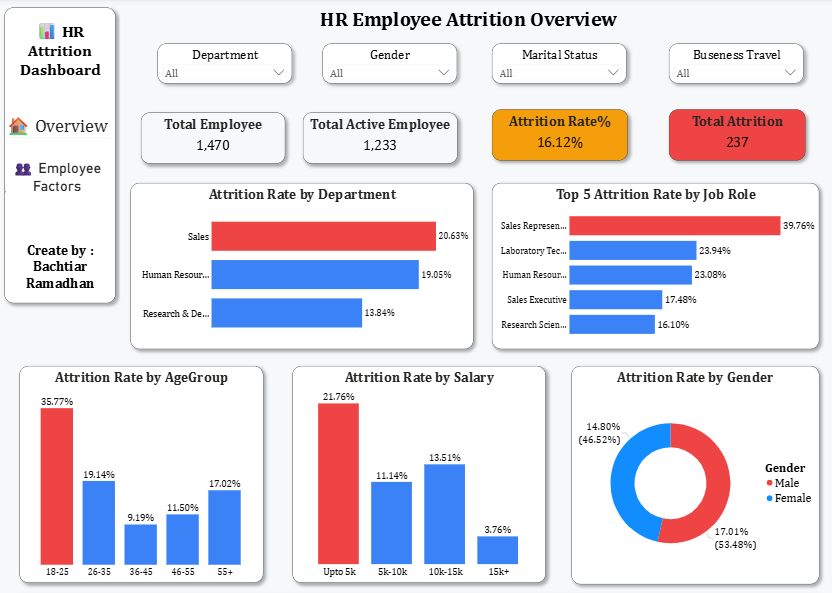

This screenshot's page, from the dashboard's own definition file:
{"tool":"powerbi","page":{"name":"Overview","canvas":[2800,2228],"ordinal":0},"visuals":[{"type":"textbox","title":"HR Employee Attrition Overview","box":[906.8,36.4,1335.9,76.9],"z":0},{"type":"textbox","box":[25.1,35.1,370.8,987.1],"z":1000},{"type":"textbox","title":"📊 HR Attrition Dashboard","box":[30.1,75.2,360.8,240.5],"z":2000},{"type":"slicer","title":"Department","fields":{"Values":["HR_Analytics_clean.Department"]},"box":[534.3,155,449.3,133.6],"z":3000},{"type":"slicer","title":"Gender","fields":{"Values":["HR_Analytics_clean.Gender"]},"box":[1084.9,155,449.3,133.6],"z":4000},{"type":"slicer","title":"Marital Status","fields":{"Values":["HR_Analytics_clean.MaritalStatus"]},"box":[1655.7,155,449.3,133.6],"z":5000},{"type":"slicer","title":"Buseness Travel","fields":{"Values":["HR_Analytics_clean.BusinessTravel"]},"box":[2242.6,155,449.3,133.6],"z":6000},{"type":"cardVisual","title":"Total Active Employee","fields":{"Data":["HR_Analytics_clean.Total Active Employee Text"]},"box":[1022.2,385.8,516.1,170.4],"z":7000},{"type":"cardVisual","title":"Attrition Rate%","fields":{"Data":["HR_Analytics_clean.Attrition Rate"]},"box":[1655.7,376.5,453.4,170],"z":8000},{"type":"cardVisual","title":"Total Attrition","fields":{"Data":["HR_Analytics_clean.Total Attrition"]},"box":[2246.7,376.5,455,170],"z":9000},{"type":"clusteredBarChart","title":"Attrition Rate by Department","fields":{"Category":["HR_Analytics_clean.Department"],"Y":["HR_Analytics_clean.Attrition Rate"]},"box":[447,623.4,1145.6,554.6],"z":10000},{"type":"clusteredBarChart","title":"Attrition Rate by Job Role","fields":{"Category":["HR_Analytics_clean.JobRole"],"Y":["HR_Analytics_clean.Attrition Rate"]},"box":[1655.7,623.4,1093,554.6],"z":11000},{"type":"donutChart","title":"Attrition Rate by Gender","fields":{"Category":["HR_Analytics_clean.Gender"],"Y":["HR_Analytics_clean.Attrition Rate"]},"box":[1920.6,1232.4,827.6,728.7],"z":12000},{"type":"clusteredColumnChart","title":"Attrition Rate by Salary","fields":{"Y":["HR_Analytics_clean.Attrition Rate"],"Category":["HR_Analytics_clean.SalarySlab"]},"box":[985,1232.4,845.6,724.2],"z":13000},{"type":"clusteredColumnChart","title":"Attrition Rate by AgeGroup","fields":{"Category":["HR_Analytics_clean.AgeGroup"],"Y":["HR_Analytics_clean.Attrition Rate"]},"box":[76.5,1232.4,814.1,724.2],"z":14000},{"type":"textbox","title":"Create by : Bachtiar Ramadhan","box":[30.1,816.7,360.8,195.4],"z":15000},{"type":"textbox","title":"Key Insight : • Sales memiliki attrition rate tertinggi (20.63%). • Sales Representative merupakan job role dengan attrition tertinggi (39.76%). • Attrition didominasi usia 18–25 tahun dan salary ≤5K.","box":[45.1,1994.2,2720.8,200.4],"z":16000},{"type":"actionButton","title":"🏠 Overview","box":[30.1,385.8,350.7,65.1],"z":17000},{"type":"actionButton","title":"👥 Employee Factors","box":[35.1,486,360.8,125.3],"z":18000},{"type":"cardVisual","title":"Total Employee","fields":{"Data":["HR_Analytics_clean.Total Employee"]},"box":[481,385.8,481,170.4],"z":19000}]}

Visuals, with their boxes on the page's 2800x2228 design canvas (x1, y1, x2, y2). These are canvas units, not pixel positions in the 832x593 screenshot, which may show the page scaled, cropped or inside an application window:
"HR Employee Attrition Overview" textbox: <region>907, 36, 2243, 113</region>
textbox: <region>25, 35, 396, 1022</region>
"📊 HR Attrition Dashboard" textbox: <region>30, 75, 391, 316</region>
"Department" slicer: <region>534, 155, 984, 289</region>
"Gender" slicer: <region>1085, 155, 1534, 289</region>
"Marital Status" slicer: <region>1656, 155, 2105, 289</region>
"Buseness Travel" slicer: <region>2243, 155, 2692, 289</region>
"Total Active Employee" cardVisual: <region>1022, 386, 1538, 556</region>
"Attrition Rate%" cardVisual: <region>1656, 376, 2109, 546</region>
"Total Attrition" cardVisual: <region>2247, 376, 2702, 546</region>
"Attrition Rate by Department" clusteredBarChart: <region>447, 623, 1593, 1178</region>
"Attrition Rate by Job Role" clusteredBarChart: <region>1656, 623, 2749, 1178</region>
"Attrition Rate by Gender" donutChart: <region>1921, 1232, 2748, 1961</region>
"Attrition Rate by Salary" clusteredColumnChart: <region>985, 1232, 1831, 1957</region>
"Attrition Rate by AgeGroup" clusteredColumnChart: <region>76, 1232, 891, 1957</region>
"Create by : Bachtiar Ramadhan" textbox: <region>30, 817, 391, 1012</region>
"Key Insight : • Sales memiliki attrition rate tertinggi (20.63%). • Sales Representative merupakan job role dengan attrition tertinggi (39.76%). • Attrition didominasi usia 18–25 tahun dan salary ≤5K." textbox: <region>45, 1994, 2766, 2195</region>
"🏠 Overview" actionButton: <region>30, 386, 381, 451</region>
"👥 Employee Factors" actionButton: <region>35, 486, 396, 611</region>
"Total Employee" cardVisual: <region>481, 386, 962, 556</region>
